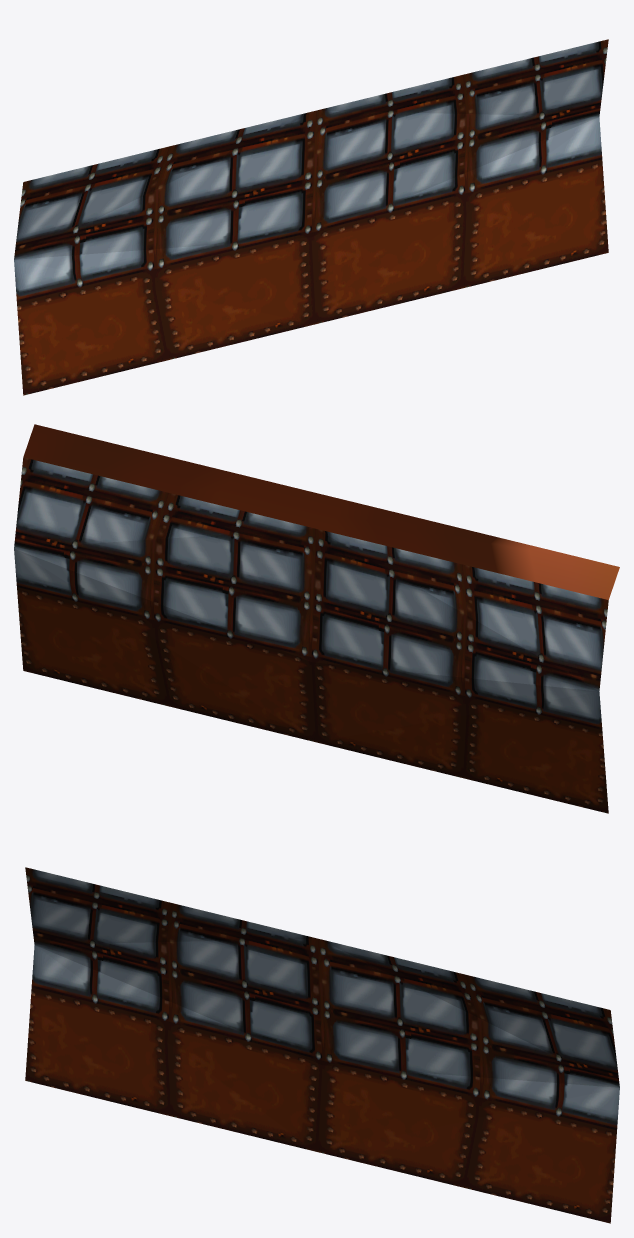
Rendered from W_A3_xxxx [BraunesGlas]_875.glb.
The picture shows the model from 3 angles, top to bottom: view 1: azimuth 30°, elevation 25°; view 2: azimuth 150°, elevation 25°; view 3: azimuth 330°, elevation 25°; orthographic projection.
Visible parts, largest first — view 1: polySurfaceShape787; view 2: polySurfaceShape787, polySurfaceShape1065; view 3: polySurfaceShape787.
Boxes of the visible parts, <box> form: polySurfaceShape787: <box>14,39,608,395</box>; polySurfaceShape787: <box>14,457,608,813</box>; polySurfaceShape1065: <box>23,424,619,599</box>; polySurfaceShape787: <box>25,867,619,1223</box>.
Bounding box in the file's own units: 1 × 0.3891 × 0.0607.
2 materials, 2 textured.
